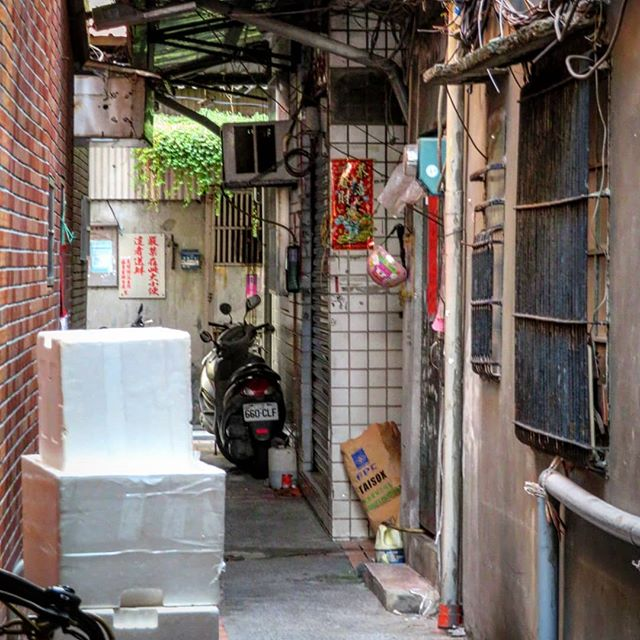building: (390, 1, 640, 616), (238, 1, 423, 507), (1, 3, 112, 640)
motorcycle: (192, 316, 297, 489)
sign: (311, 155, 389, 262), (112, 228, 175, 301)
